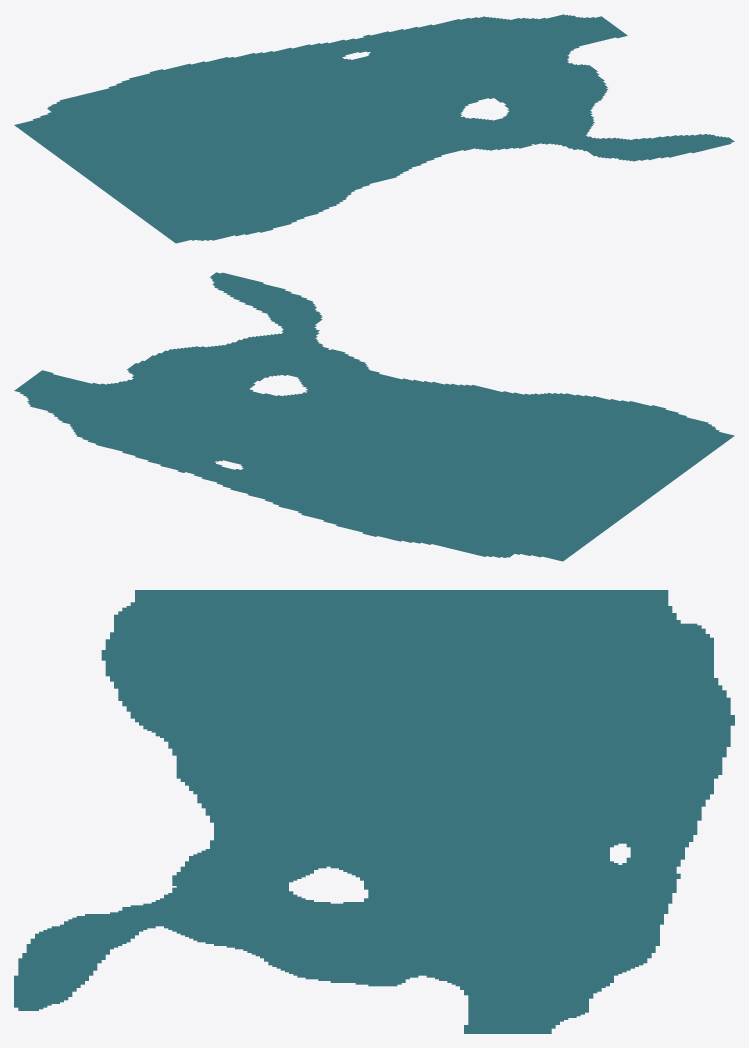
File: eau-reference-1-1.glb
3 renders of one model, top to bottom at view 1: azimuth 30°, elevation 25°; view 2: azimuth 150°, elevation 25°; view 3: azimuth 270°, elevation 25°, orthographic. The views are drawn at different scales.
Parts seen in each view (by area): view 1: eau-reference-1-1; view 2: eau-reference-1-1; view 3: eau-reference-1-1.
Boxes of the visible parts, bbox=[...] form: eau-reference-1-1: bbox=[14, 14, 734, 243]; eau-reference-1-1: bbox=[14, 272, 734, 561]; eau-reference-1-1: bbox=[14, 590, 734, 1033].
Size of the model in its own units: 1008 by 0.0197 by 692.
